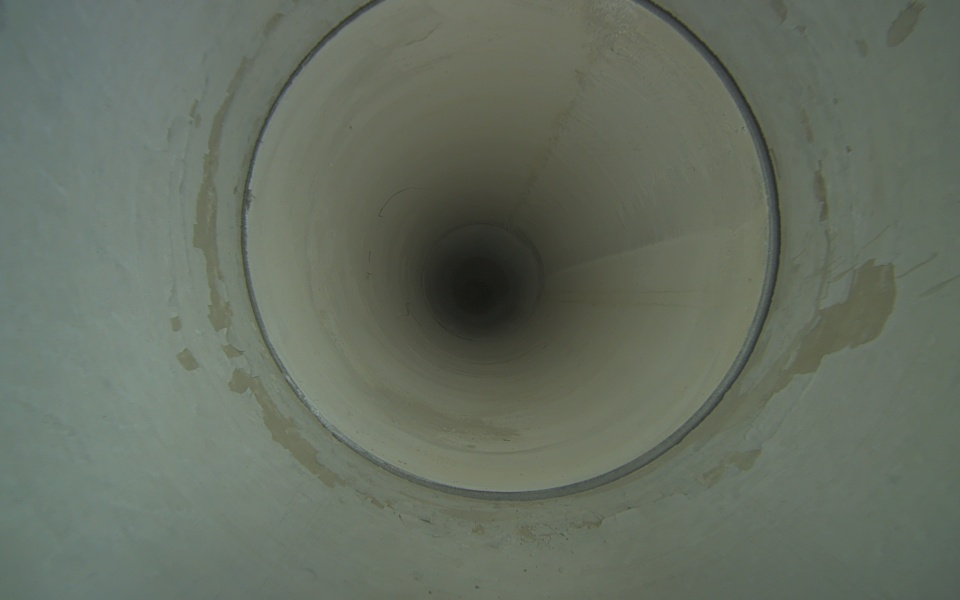circle1: (237, 0, 783, 503)
circle2: (461, 276, 495, 310)
